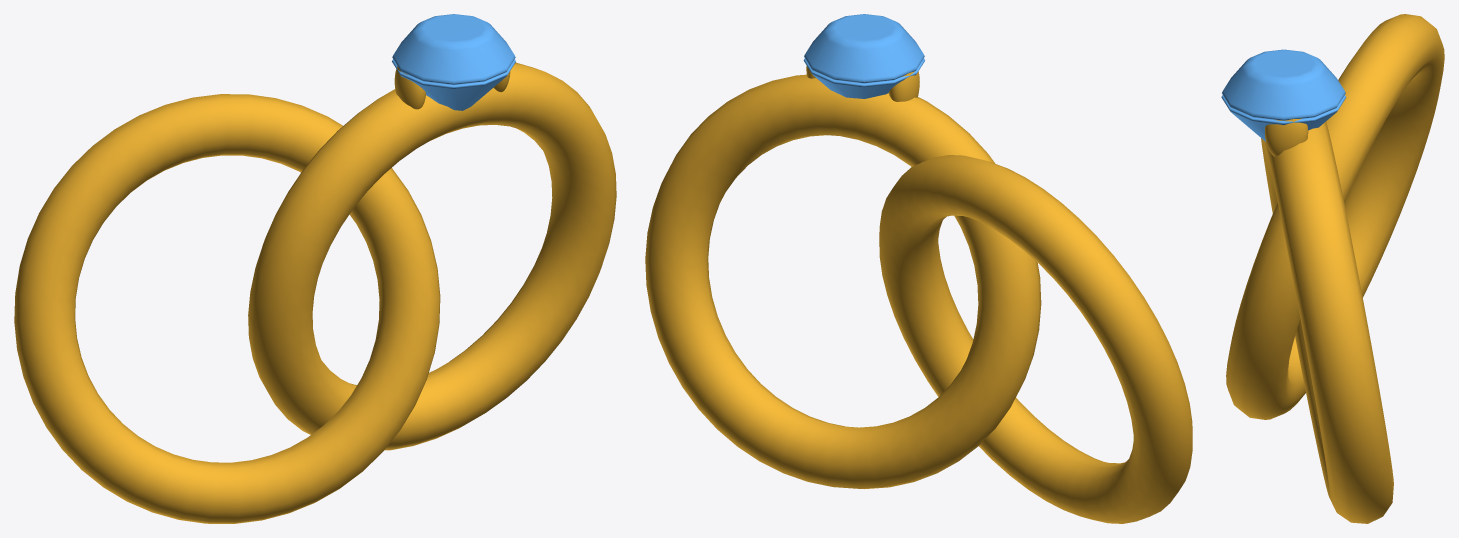
File: rings.glb
3 renders of one model, left to right at view 1: azimuth 30°, elevation 25°; view 2: azimuth 150°, elevation 25°; view 3: azimuth 270°, elevation 25°, orthographic. The views are drawn at different scales.
Visible parts, largest first — view 1: Left wedding band, Diamond wedding band, Diamond crown, Diamond pavilion, Soft gold diamond prong; view 2: Diamond wedding band, Left wedding band, Diamond crown, Diamond pavilion, Soft gold diamond prong; view 3: Left wedding band, Diamond wedding band, Diamond crown, Soft gold diamond prong.001, Diamond pavilion.
Part boxes in pixels (left/top/right/bottom): Left wedding band: left=14, top=94, right=440, bottom=523; Diamond wedding band: left=248, top=62, right=616, bottom=450; Diamond crown: left=392, top=14, right=515, bottom=84; Diamond pavilion: left=392, top=59, right=515, bottom=110; Soft gold diamond prong: left=394, top=66, right=426, bottom=109; Diamond wedding band: left=645, top=74, right=1041, bottom=489; Left wedding band: left=879, top=155, right=1192, bottom=523; Diamond crown: left=804, top=14, right=924, bottom=83; Diamond pavilion: left=803, top=58, right=924, bottom=98; Soft gold diamond prong: left=889, top=71, right=919, bottom=101; Left wedding band: left=1226, top=14, right=1444, bottom=419; Diamond wedding band: left=1261, top=122, right=1393, bottom=523; Diamond crown: left=1222, top=49, right=1345, bottom=120; Soft gold diamond prong.001: left=1265, top=118, right=1308, bottom=156; Diamond pavilion: left=1221, top=95, right=1346, bottom=141.
Bounding box in the file's own units: 4.93 × 3.64 × 1.67.
